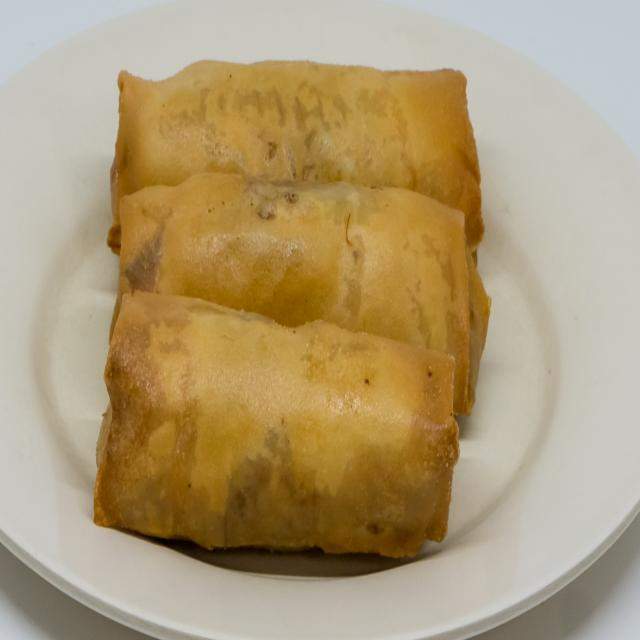Lumpia-Semarang: (70, 37, 524, 588)
